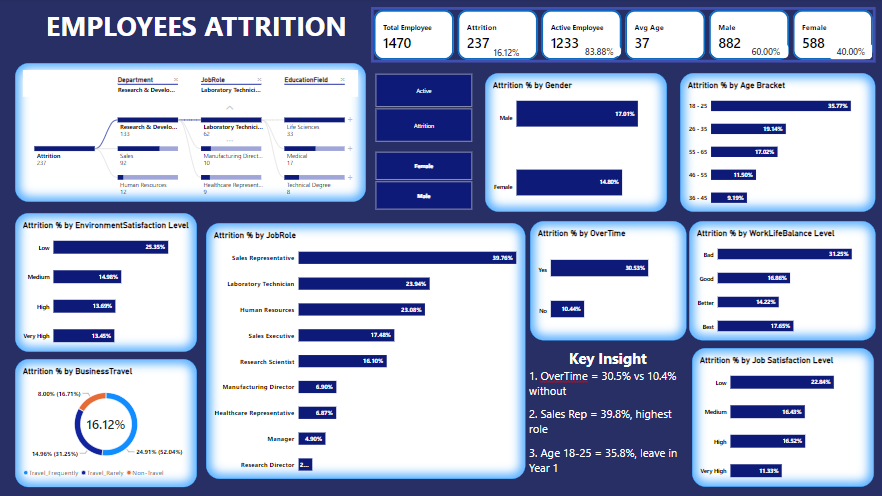

What the dashboard file says about the page in this screenshot:
{"tool":"powerbi","page":{"name":"Page 1","canvas":[1920,1080],"ordinal":0},"visuals":[{"type":"cardVisual","fields":{"Data":["#DAX.Total Employee","#DAX.Attrition","#DAX.Active Employee","#DAX.Avg Age","#DAX.Male","#DAX.Female"]},"box":[806,20,1090,120],"z":0},{"type":"decompositionTreeVisual","fields":{"Analyze":["#DAX.Attrition"],"ExplainBy":["Amdor Analytics Attrition.Department","Amdor Analytics Attrition.JobRole","Amdor Analytics Attrition.EducationField","Amdor Analytics Attrition.Attrition"]},"box":[36.7,140,758.3,300],"z":1000},{"type":"barChart","fields":{"Category":["Amdor Analytics Attrition.Gender"],"Y":["#DAX.Attrition %"]},"box":[1052.5,162.5,393.3,300],"z":2000},{"type":"barChart","fields":{"Category":["Amdor Analytics Attrition.Age Bracket"],"Y":["#DAX.Attrition %"]},"box":[1472.5,162.5,421.7,300],"z":3000},{"type":"barChart","fields":{"Category":["Amdor Analytics Attrition.EnvironmentSatisfaction Level"],"Y":["#DAX.Attrition %"]},"box":[36.7,463.3,393.3,300],"z":4000},{"type":"barChart","fields":{"Category":["Amdor Analytics Attrition.JobRole"],"Y":["#DAX.Attrition %"]},"box":[450,485,690,553.3],"z":5000},{"type":"barChart","fields":{"Category":["Amdor Analytics Attrition.Job Satisfaction Level"],"Y":["#DAX.Attrition %"]},"box":[1500,755,393.3,300],"z":6000},{"type":"donutChart","fields":{"Category":["Amdor Analytics Attrition.BusinessTravel"],"Y":["#DAX.Attrition %"]},"box":[36.7,780,393.3,276.7],"z":7000},{"type":"barChart","fields":{"Category":["Amdor Analytics Attrition.WorkLifeBalance Level"],"Y":["#DAX.Attrition %"]},"box":[1492.5,482.5,403.3,258.3],"z":8000},{"type":"textbox","box":[36.7,20,783.3,120],"z":9000},{"type":"cardVisual","fields":{"Data":["#DAX.Attrition %"]},"box":[1053.3,98.9,95.6,37.8],"z":10000},{"type":"cardVisual","fields":{"Data":["#DAX.Active Employee %"]},"box":[1250,102.9,95.7,22.9],"z":11000},{"type":"cardVisual","fields":{"Data":["#DAX.Male %"]},"box":[1612.2,98.9,96.7,30],"z":12000},{"type":"cardVisual","fields":{"Data":["#DAX.Female %"]},"box":[1794.4,96.7,93.3,35.6],"z":13000},{"type":"slicer","fields":{"Values":["Amdor Analytics Attrition.Attrition new"]},"box":[794.9,162,247.5,150],"z":14000},{"type":"barChart","fields":{"Category":["Amdor Analytics Attrition.OverTime"],"Y":["#DAX.Attrition %"]},"box":[1150,482.5,337.5,257.5],"z":14001},{"type":"slicer","fields":{"Values":["Amdor Analytics Attrition.Gender"]},"box":[795.6,330,247.8,127.8],"z":14002},{"type":"textbox","box":[1147.5,755,340,300],"z":14003}]}

Visuals, with their boxes in screenshot pixels (x1, y1, x2, y2), scaled from the page's 1920x1080 canvas onto the 882x496 screenshot:
cardVisual - #DAX.Total Employee x #DAX.Attrition: 370 9 871 64
decompositionTreeVisual - #DAX.Attrition x Amdor Analytics Attrition.Department: 17 64 365 202
barChart - Amdor Analytics Attrition.Gender x #DAX.Attrition %: 483 75 664 212
barChart - Amdor Analytics Attrition.Age Bracket x #DAX.Attrition %: 676 75 870 212
barChart - Amdor Analytics Attrition.EnvironmentSatisfaction Level x #DAX.Attrition %: 17 213 198 351
barChart - Amdor Analytics Attrition.JobRole x #DAX.Attrition %: 207 223 524 477
barChart - Amdor Analytics Attrition.Job Satisfaction Level x #DAX.Attrition %: 689 347 870 485
donutChart - Amdor Analytics Attrition.BusinessTravel x #DAX.Attrition %: 17 358 198 485
barChart - Amdor Analytics Attrition.WorkLifeBalance Level x #DAX.Attrition %: 686 222 871 340
textbox: 17 9 377 64
cardVisual - #DAX.Attrition %: 484 45 528 63
cardVisual - #DAX.Active Employee %: 574 47 618 58
cardVisual - #DAX.Male %: 741 45 785 59
cardVisual - #DAX.Female %: 824 44 867 61
slicer - Amdor Analytics Attrition.Attrition new: 365 74 479 143
barChart - Amdor Analytics Attrition.OverTime x #DAX.Attrition %: 528 222 683 340
slicer - Amdor Analytics Attrition.Gender: 365 152 479 210
textbox: 527 347 683 485
